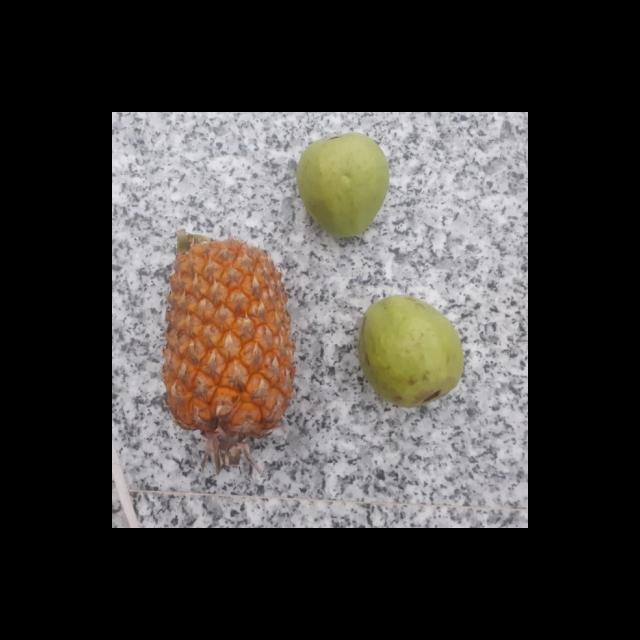guava: (352, 296, 461, 403), (294, 133, 389, 235)
pineapple: (162, 228, 294, 443)
